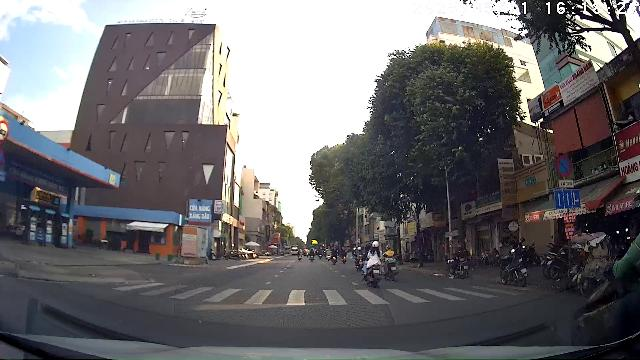131a-cam-do-xe: (555, 155, 572, 177)
